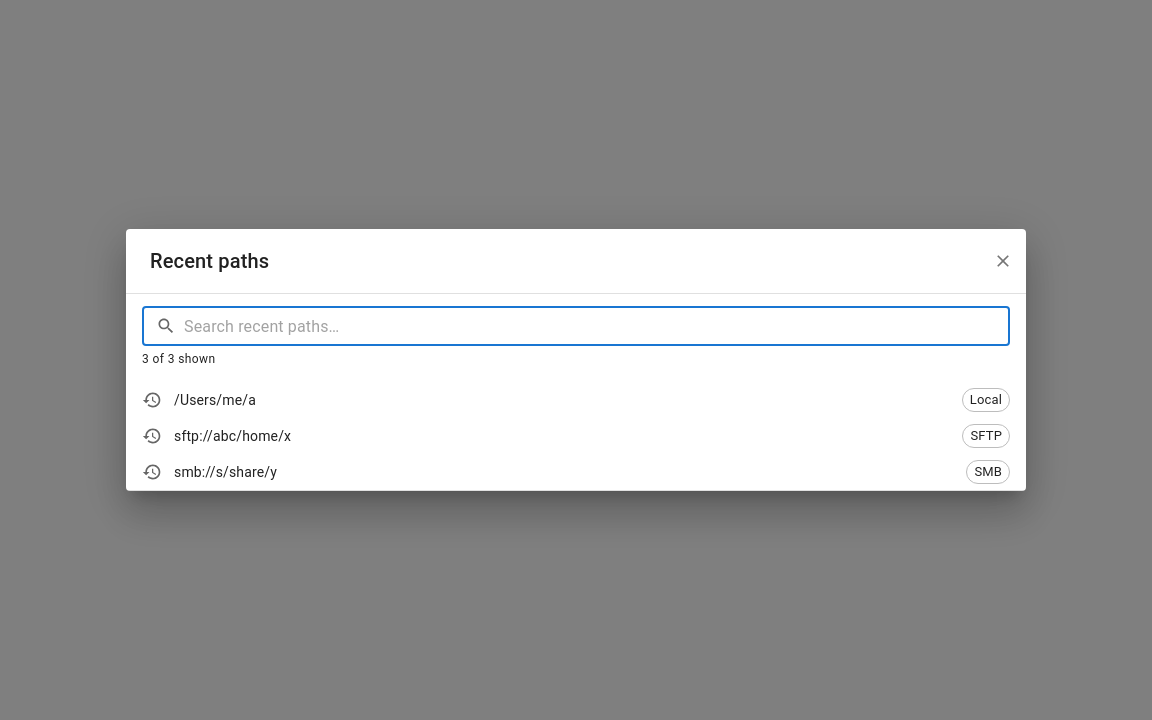
Scenario: RecentPathsDialog › renders an empty state when filter matches nothing
Type "zzzzz" into the field with placeholder "Search recent paths…" at (597, 326), box [184, 306, 1010, 346]
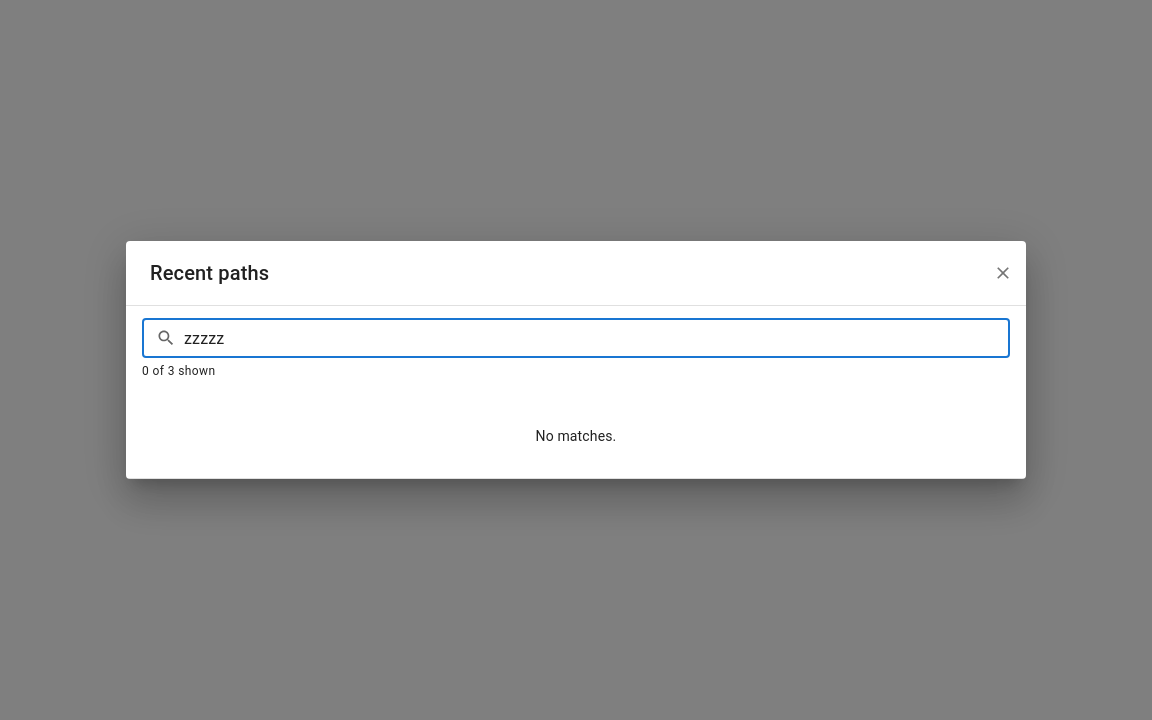
Check: the text "No matches." is shown, box [536, 428, 616, 444]
